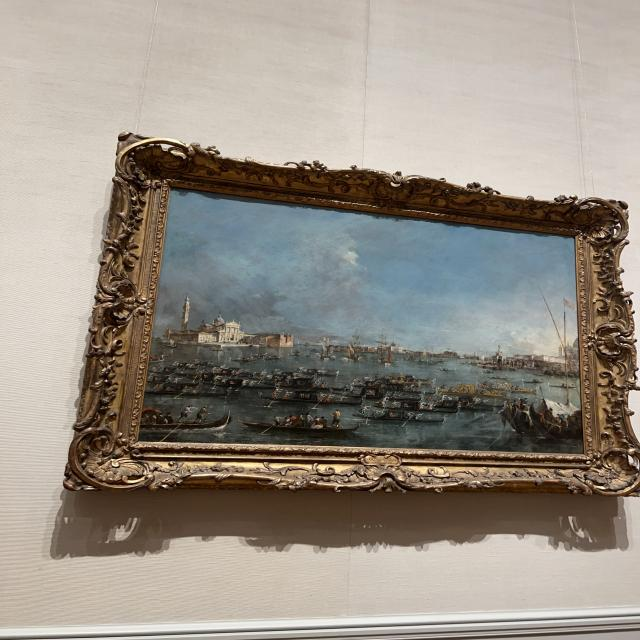ships: (142, 191, 582, 449)
